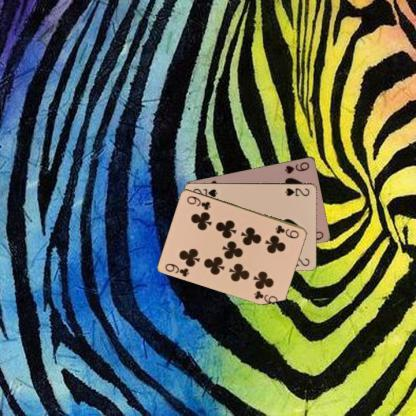2s: (283, 185, 310, 197)
9c: (162, 260, 191, 278), (273, 222, 300, 240)
9s: (282, 159, 311, 175)
